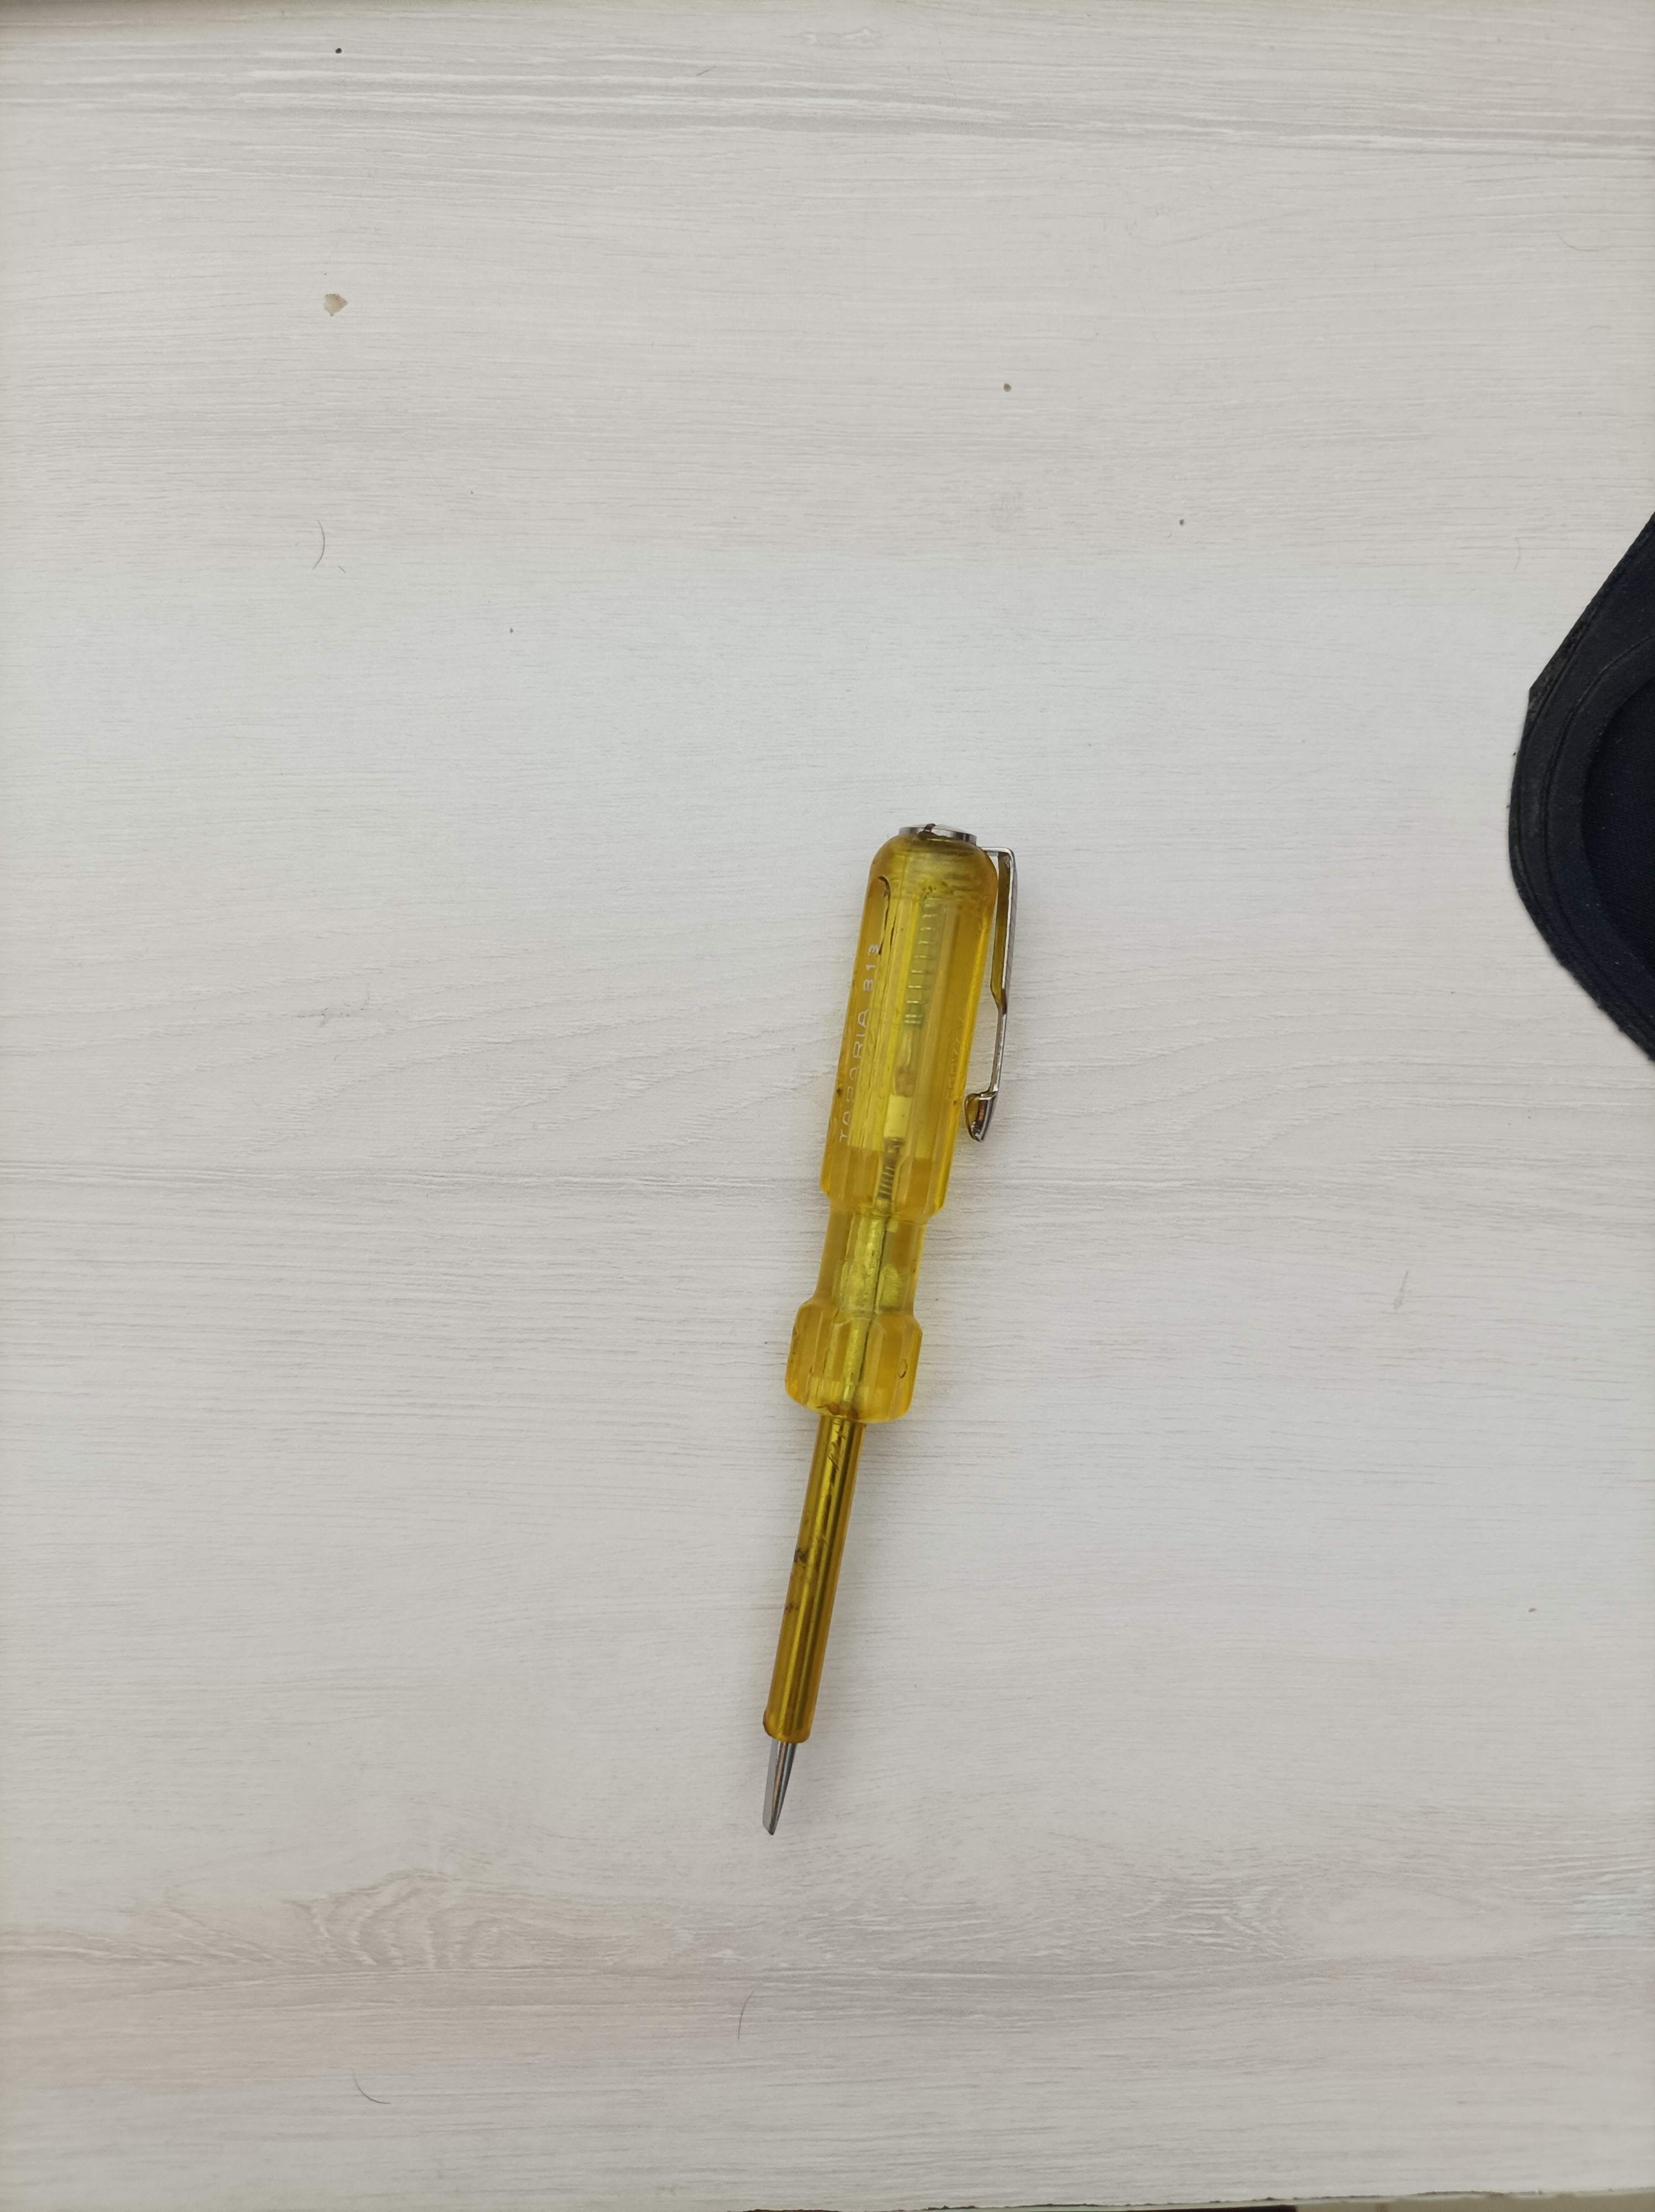screwdriver: (744, 813, 1024, 1858)
